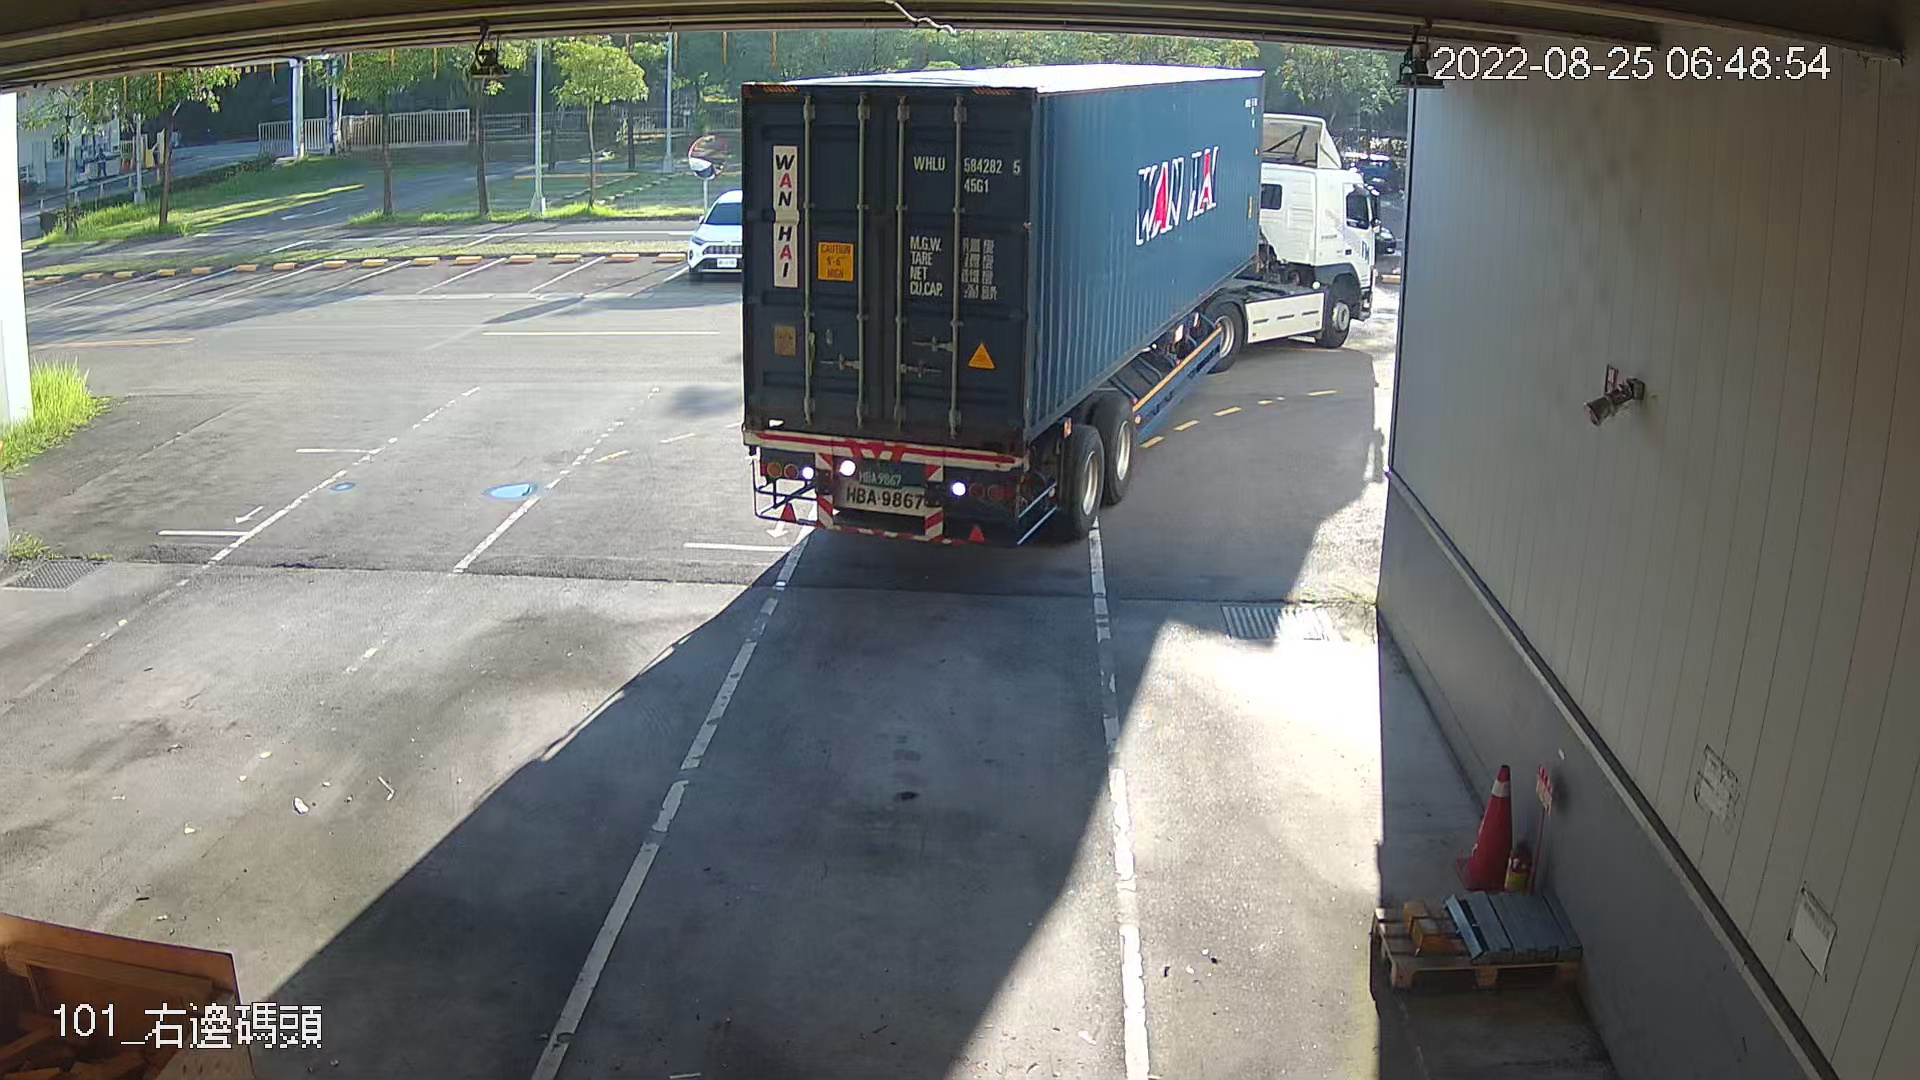container: (909, 146, 1026, 199)
